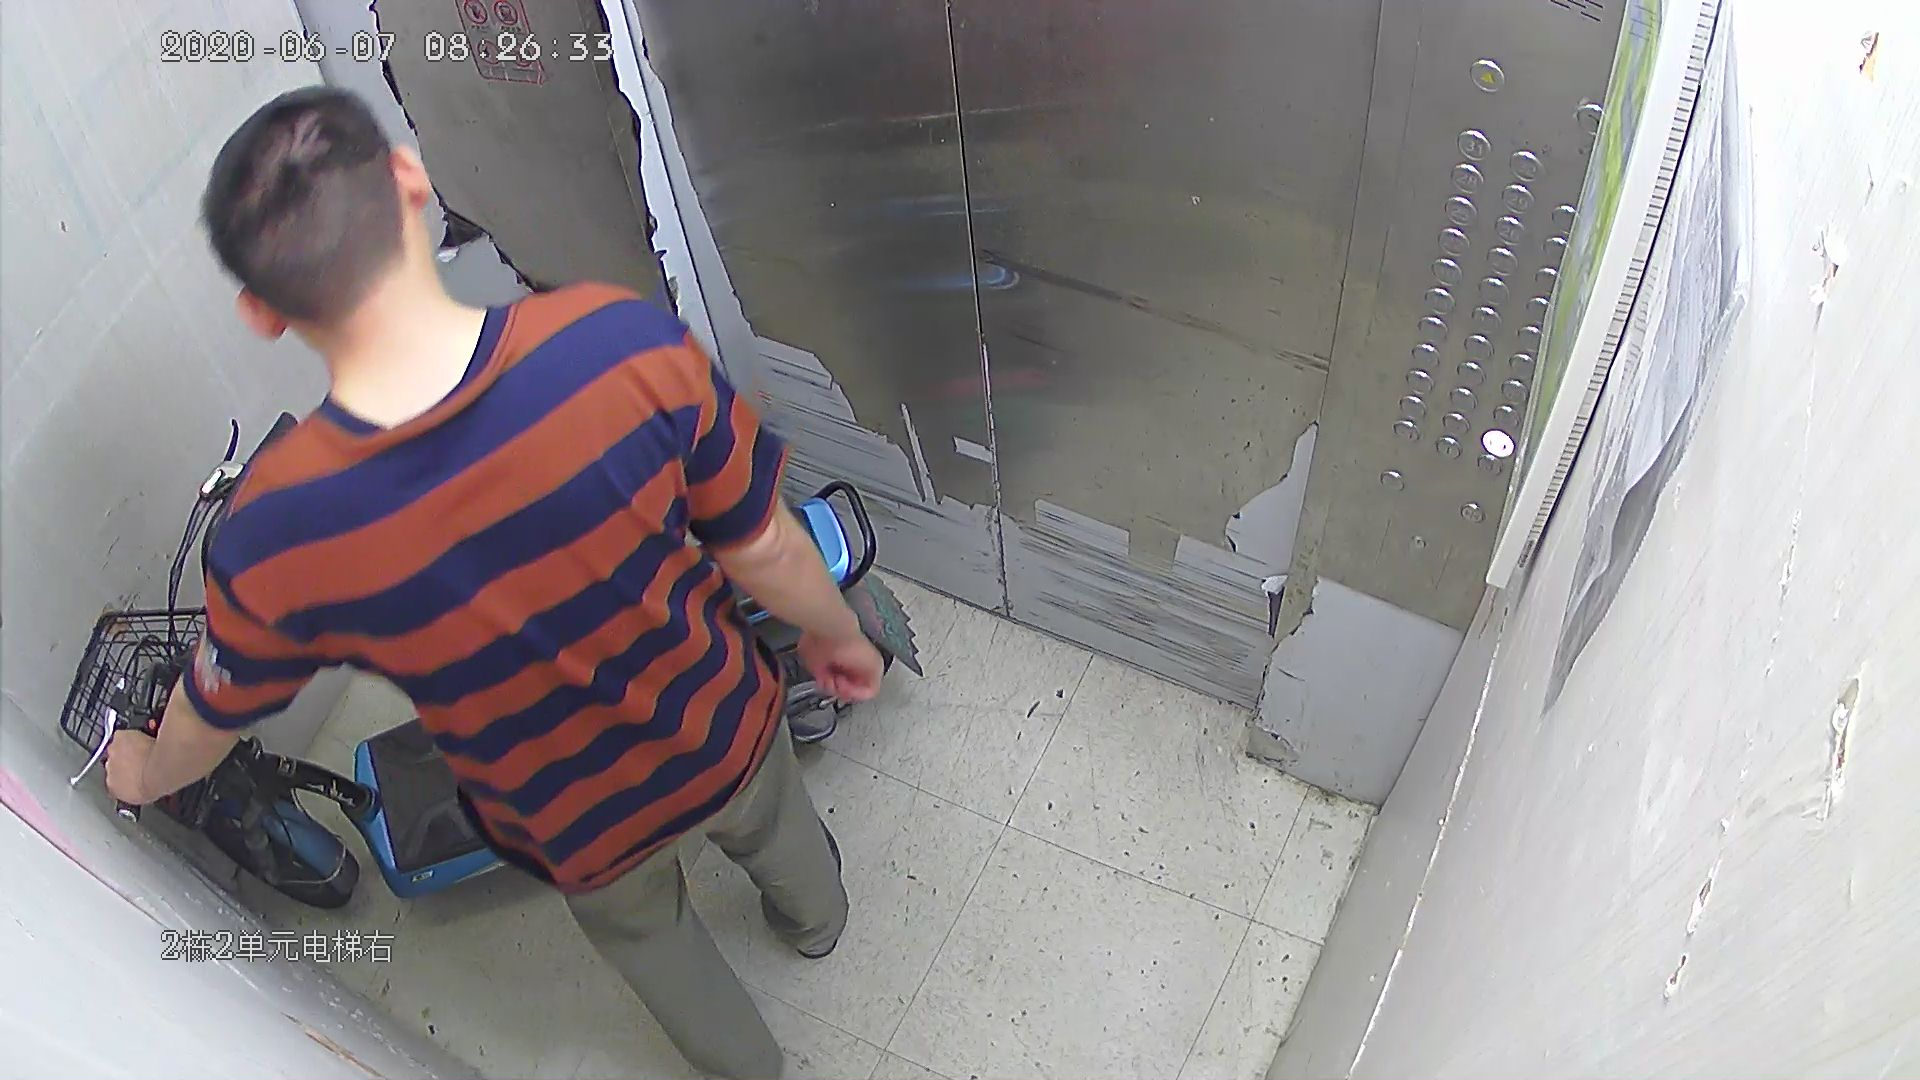Electric-bicycle: (54, 477, 918, 914)
